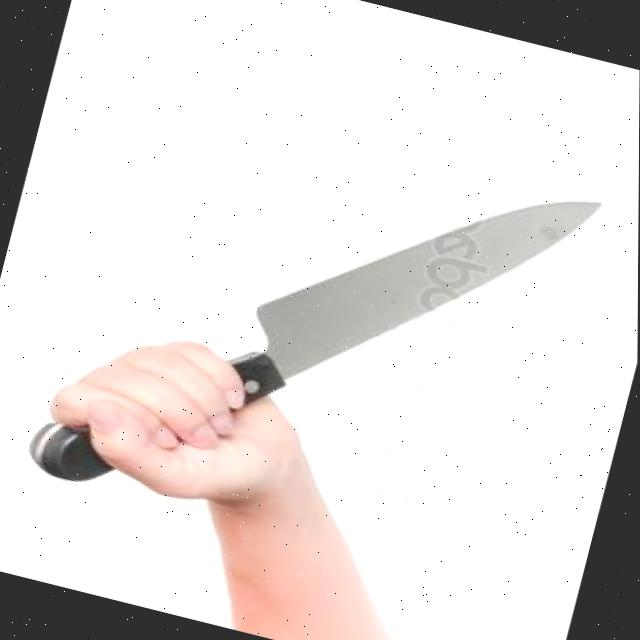knife: (212, 120, 610, 488)
